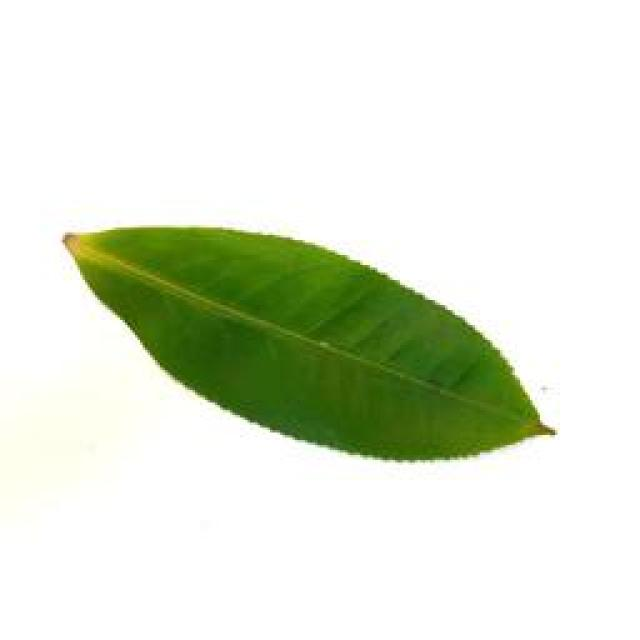Healthy: (52, 208, 576, 472)
